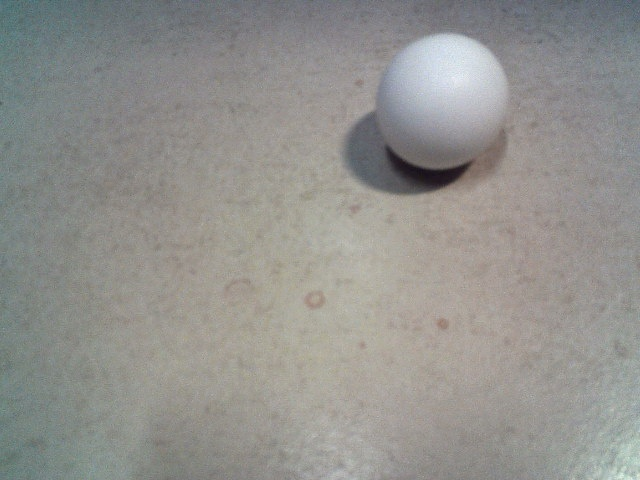pingpong: (378, 32, 510, 170)
